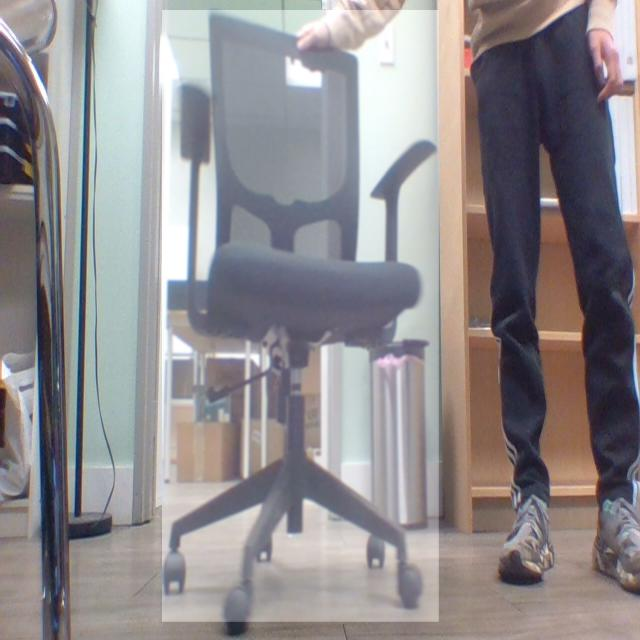black-chair: (162, 10, 440, 623)
